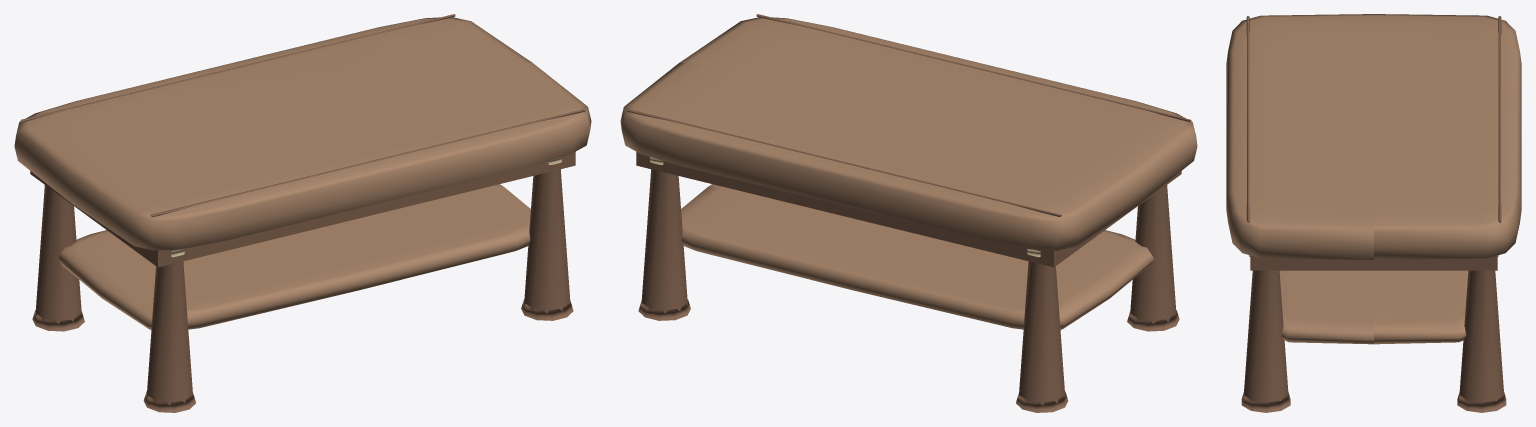
Rendered from room_coffee_table_v01.glb.
3 renders of one model, left to right at view 1: azimuth 30°, elevation 25°; view 2: azimuth 150°, elevation 25°; view 3: azimuth 270°, elevation 25°, orthographic. The views are drawn at different scales.
Parts seen in each view (by area): view 1: Art Hardwood Coffee Table v01; view 2: Art Hardwood Coffee Table v01; view 3: Art Hardwood Coffee Table v01.
Part boxes in pixels (x1,y1,x2,y2): Art Hardwood Coffee Table v01: (14, 14, 591, 412); Art Hardwood Coffee Table v01: (620, 14, 1197, 412); Art Hardwood Coffee Table v01: (1226, 14, 1521, 412).
Bounding box in the file's own units: 1.16 × 0.478 × 0.6576.
